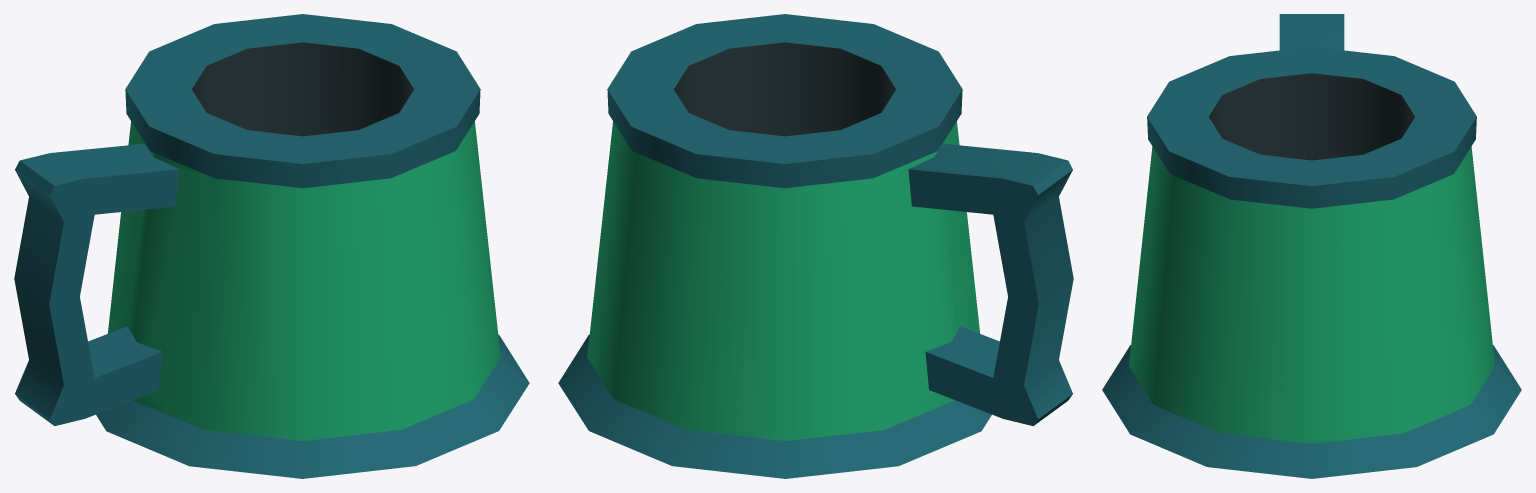
File: cupMetal.fbx
3 views of the same model, side by side, from view 1: azimuth 30°, elevation 25°; view 2: azimuth 150°, elevation 25°; view 3: azimuth 270°, elevation 25° (orthographic). The views are drawn at different scales.
Visible parts, largest first — view 1: cupMetal; view 2: cupMetal; view 3: cupMetal.
Part boxes in pixels (<box>): cupMetal: <box>14,14,529,478</box>; cupMetal: <box>558,14,1073,478</box>; cupMetal: <box>1102,14,1521,478</box>.
Bounding box in the file's own units: 126 × 75.99 × 106.
1 material, 1 textured.
